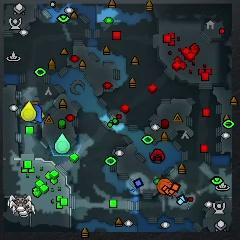p1: (32, 104, 43, 125)
p2: (54, 134, 71, 154)
p4: (21, 100, 35, 125)
p5: (157, 178, 175, 196)
x5: (28, 101, 39, 105)
